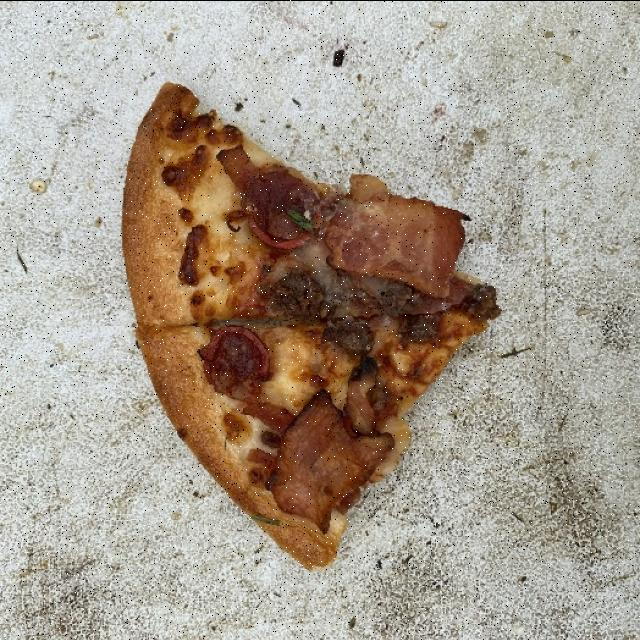organik: (127, 85, 516, 569), (146, 308, 478, 562), (119, 104, 479, 328)
